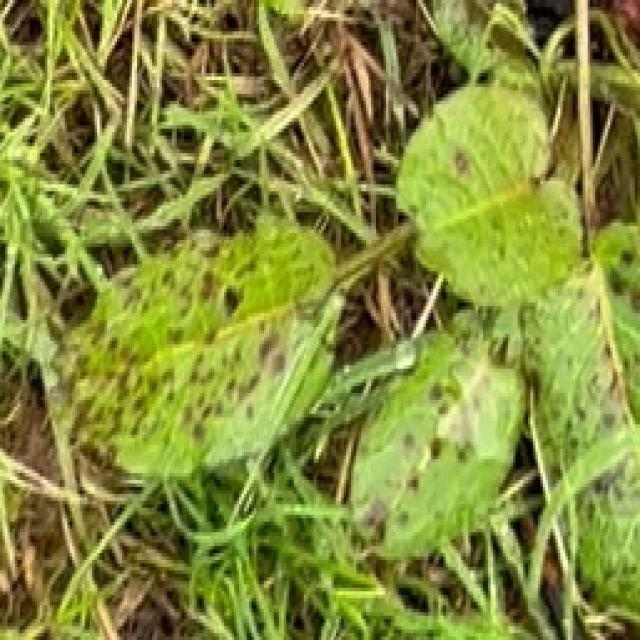organic waste: (15, 45, 640, 539)
